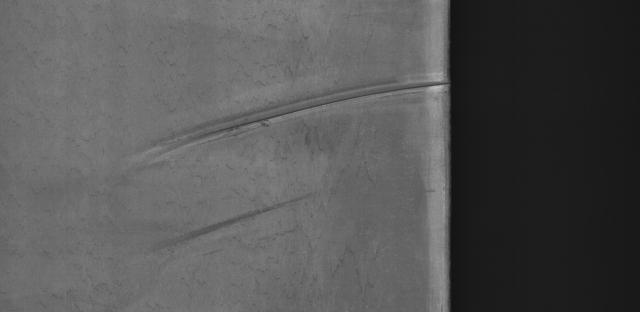crease: (114, 52, 447, 184)
